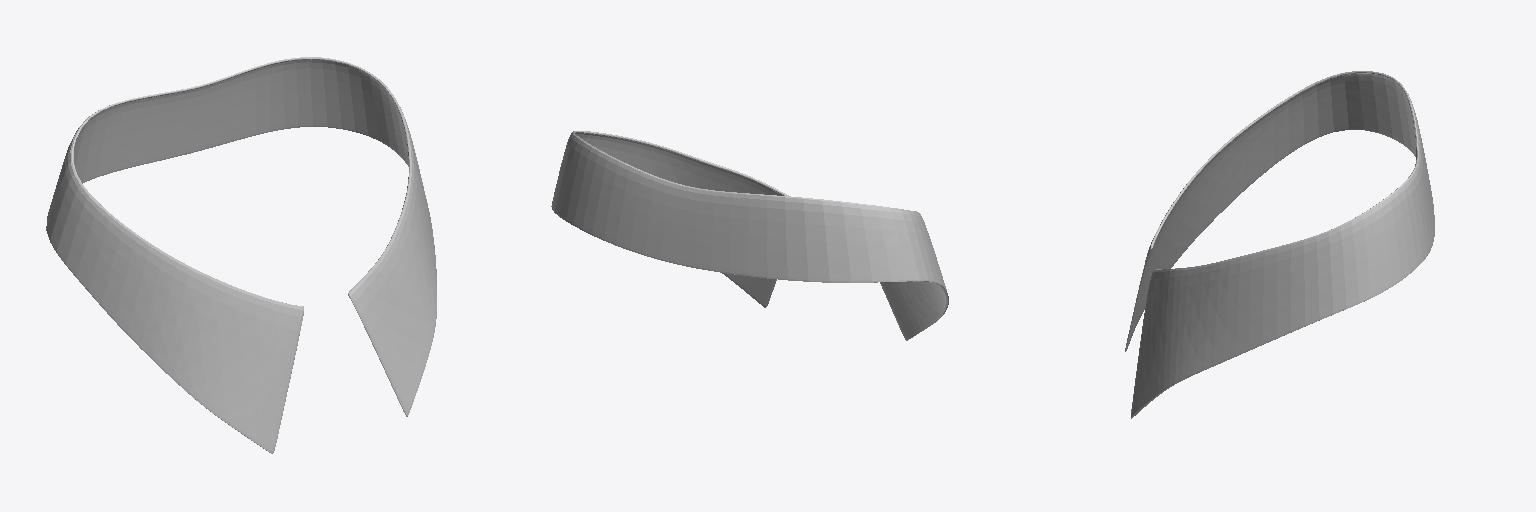
The model's file is kera_luar.obj.
3 renders of one model, left to right at view 1: azimuth 30°, elevation 25°; view 2: azimuth 150°, elevation 25°; view 3: azimuth 270°, elevation 25°, orthographic.
Parts seen in each view (by area): view 1: Object; view 2: Object; view 3: Object.
Part boxes in pixels (bbox=[...]): Object: bbox=[46, 57, 436, 453]; Object: bbox=[551, 131, 948, 340]; Object: bbox=[1125, 71, 1434, 418].
Size of the model in its own units: 177 by 119 by 132.